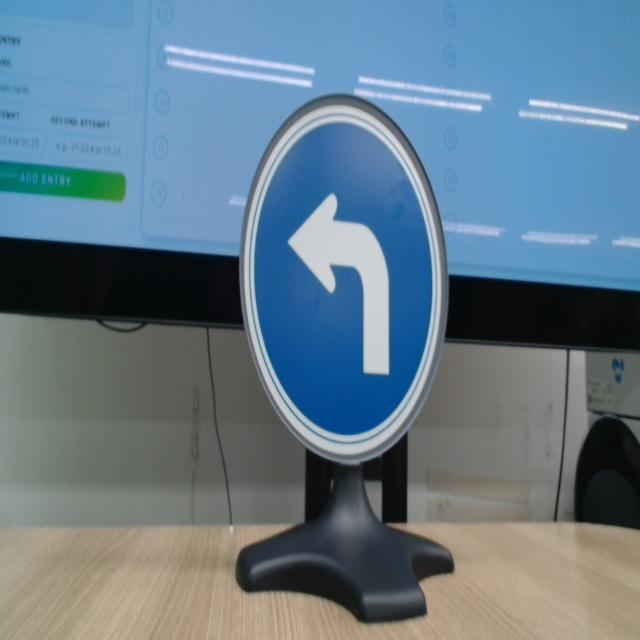left_direction: (238, 80, 461, 474)
